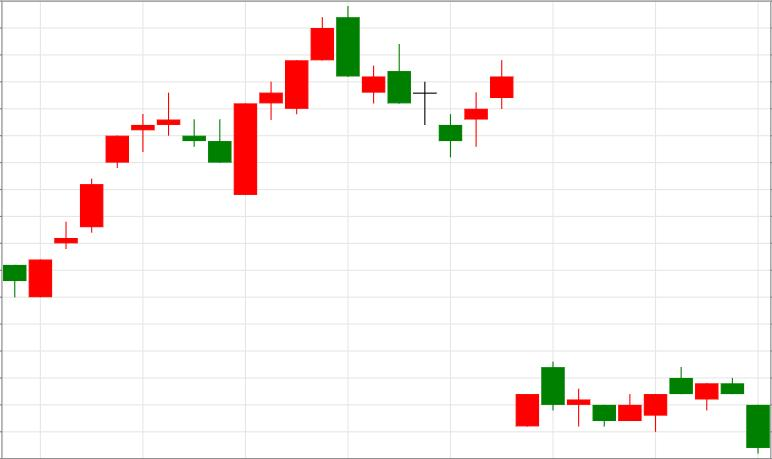bearish_engulfing_fall: (233, 6, 360, 195)
bullish_engulfing_rise: (157, 93, 258, 195)
